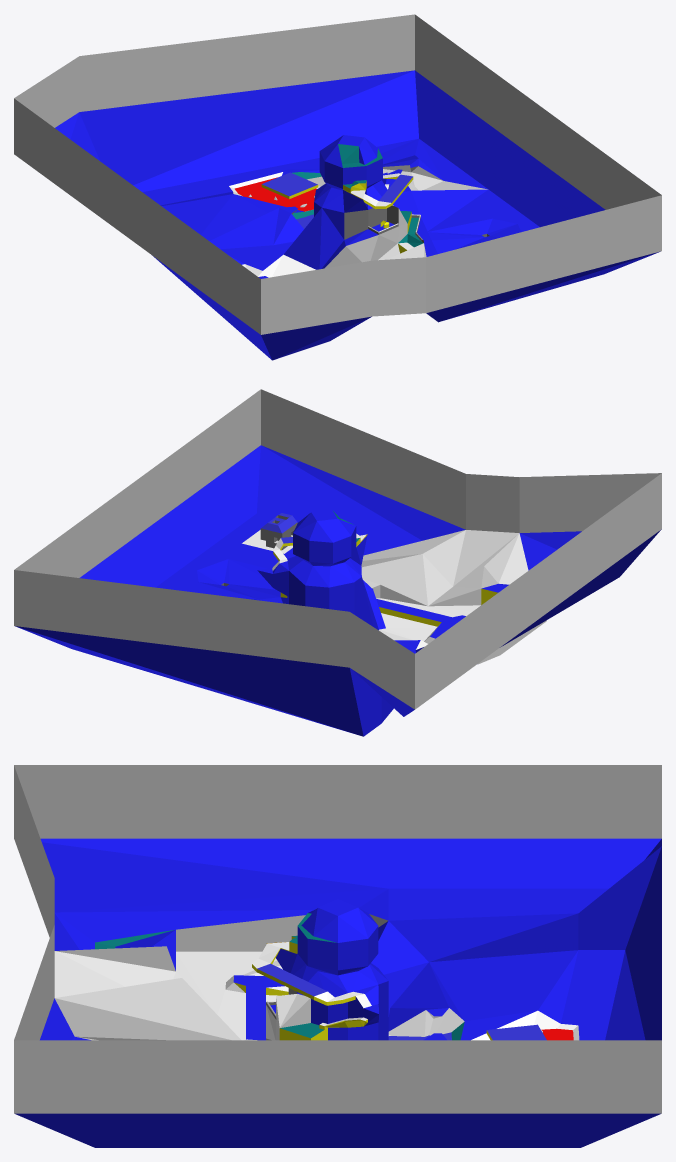
The model's file is sl_segment7.0x0CBD8.collision.obj.
The picture shows the model from 3 angles, top to bottom: view 1: azimuth 30°, elevation 25°; view 2: azimuth 150°, elevation 25°; view 3: azimuth 270°, elevation 25°; orthographic projection. The views are drawn at different scales.
Parts seen in each view (by area): view 1: sl_segment7_0CBD8_72, sl_segment7_0CBD8_slippery, sl_segment7_0CBD8_snowy, sl_segment7_0CBD8_snowy2, sl_segment7_0CBD8_flat, sl_segment7_0CBD8_wall, sl_segment7_0CBD8_icy, sl_segment7_0CBD8_lethal_lava, sl_segment7_0CBD8_normal; view 2: sl_segment7_0CBD8_72, sl_segment7_0CBD8_slippery, sl_segment7_0CBD8_snowy, sl_segment7_0CBD8_snowy2, sl_segment7_0CBD8_normal; view 3: sl_segment7_0CBD8_slippery, sl_segment7_0CBD8_72, sl_segment7_0CBD8_snowy, sl_segment7_0CBD8_snowy2, sl_segment7_0CBD8_icy, sl_segment7_0CBD8_normal, sl_segment7_0CBD8_flat.
Part boxes in pixels (<box>): sl_segment7_0CBD8_72: <box>14,14,661,334</box>; sl_segment7_0CBD8_slippery: <box>55,70,660,360</box>; sl_segment7_0CBD8_snowy: <box>248,165,443,268</box>; sl_segment7_0CBD8_snowy2: <box>229,172,413,277</box>; sl_segment7_0CBD8_flat: <box>292,144,423,247</box>; sl_segment7_0CBD8_wall: <box>344,205,489,242</box>; sl_segment7_0CBD8_icy: <box>262,172,412,228</box>; sl_segment7_0CBD8_lethal_lava: <box>234,177,316,211</box>; sl_segment7_0CBD8_normal: <box>261,175,413,253</box>; sl_segment7_0CBD8_72: <box>14,389,661,709</box>; sl_segment7_0CBD8_slippery: <box>15,445,661,736</box>; sl_segment7_0CBD8_snowy: <box>274,530,546,664</box>; sl_segment7_0CBD8_snowy2: <box>242,530,480,649</box>; sl_segment7_0CBD8_normal: <box>273,534,497,626</box>; sl_segment7_0CBD8_slippery: <box>15,838,661,1147</box>; sl_segment7_0CBD8_72: <box>14,765,661,1113</box>; sl_segment7_0CBD8_snowy: <box>54,914,542,1040</box>; sl_segment7_0CBD8_snowy2: <box>176,942,579,1040</box>; sl_segment7_0CBD8_icy: <box>257,963,546,1040</box>; sl_segment7_0CBD8_normal: <box>234,936,492,1040</box>; sl_segment7_0CBD8_flat: <box>95,913,464,1040</box>.
Bounding box in the file's own units: 15 × 5.54 × 16.
